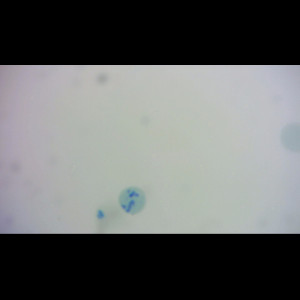aggregate reticulocyte: (117, 185, 149, 216)
